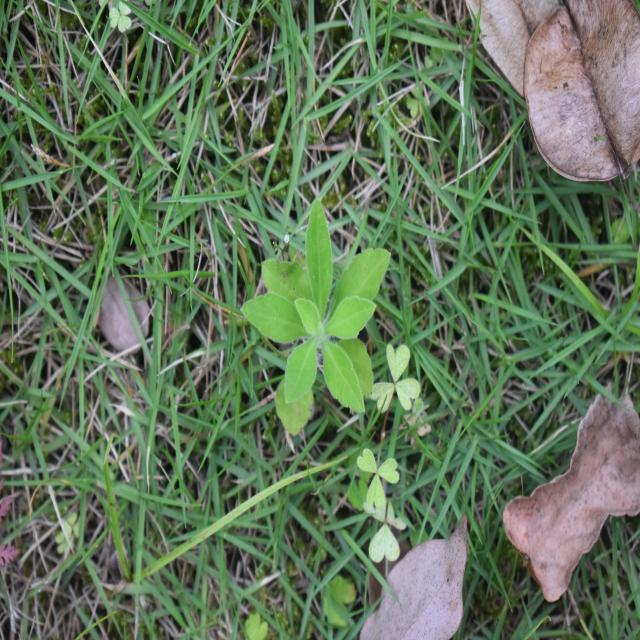horseweed: (246, 215, 396, 428)
